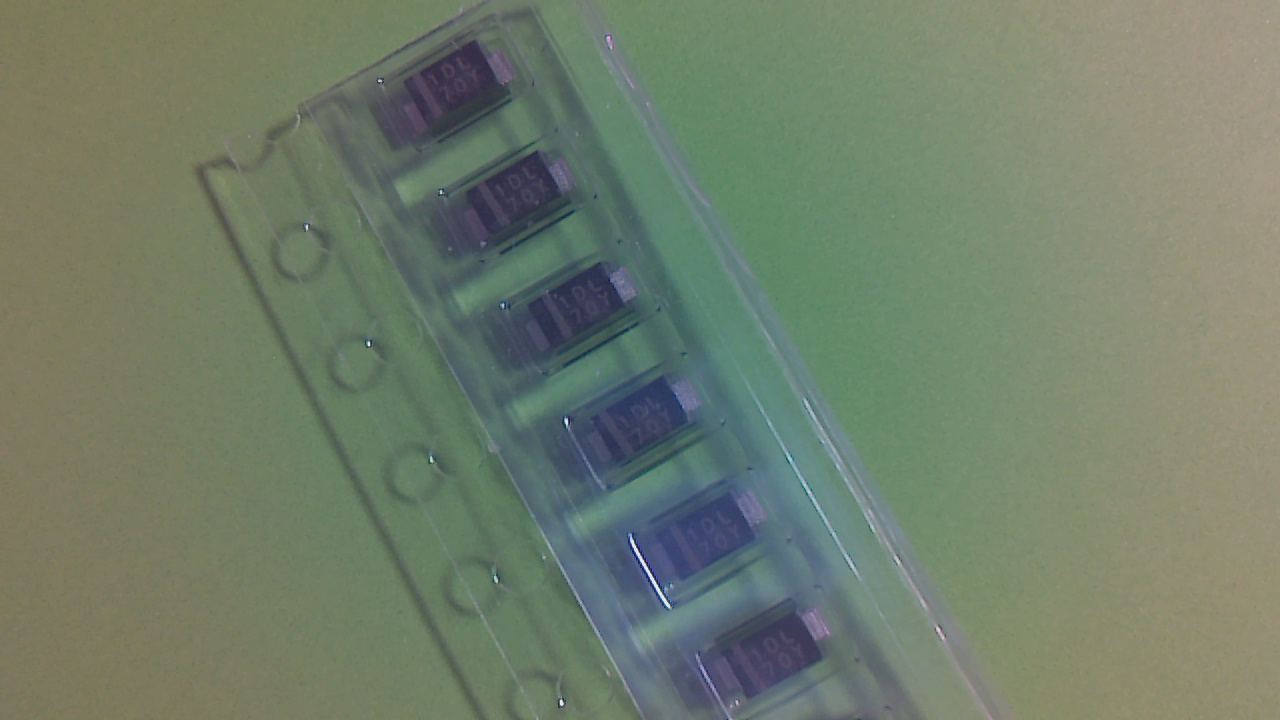Diode: (468, 156, 587, 245), (717, 611, 836, 699), (532, 266, 643, 360), (660, 490, 774, 581), (407, 50, 519, 142), (594, 382, 704, 474)
